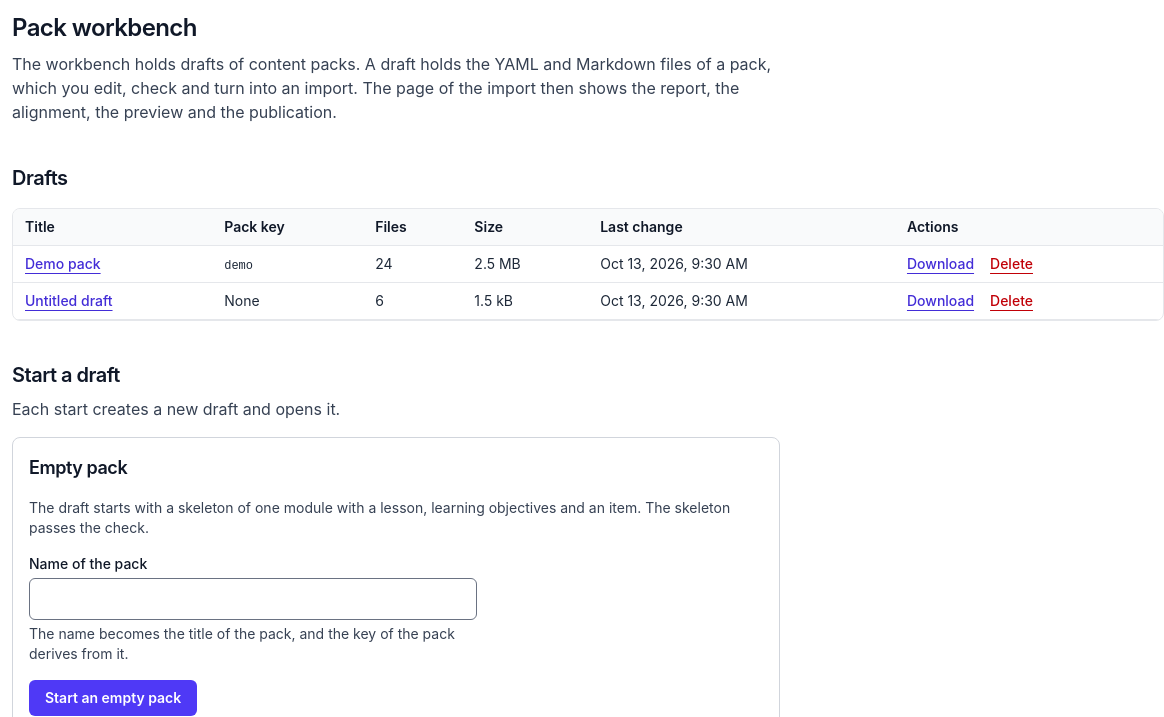
Test: the download of a draft › a converted media entry holds the download back with the reason of the draft page
Click the link named "Download Demo pack" at (941, 264), box 907,254 -> 974,274
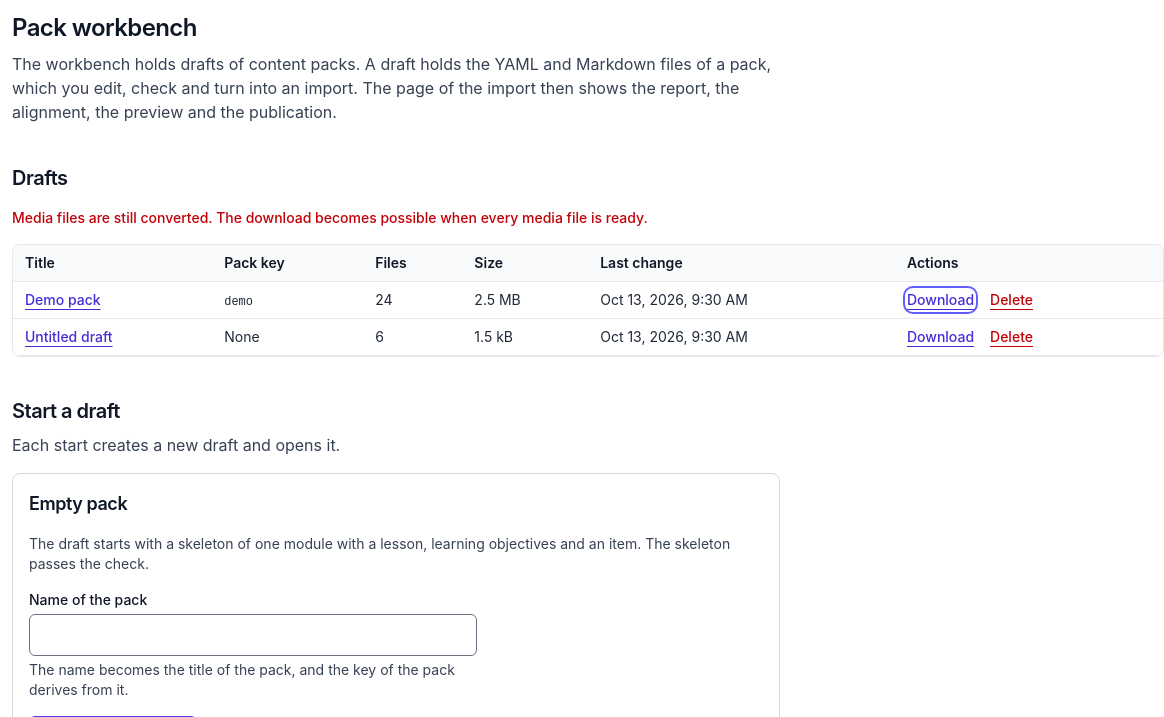
Expected: the text "Media files are still converted. The download becomes possible when every media file is ready." is shown, 12,209 -> 648,226
